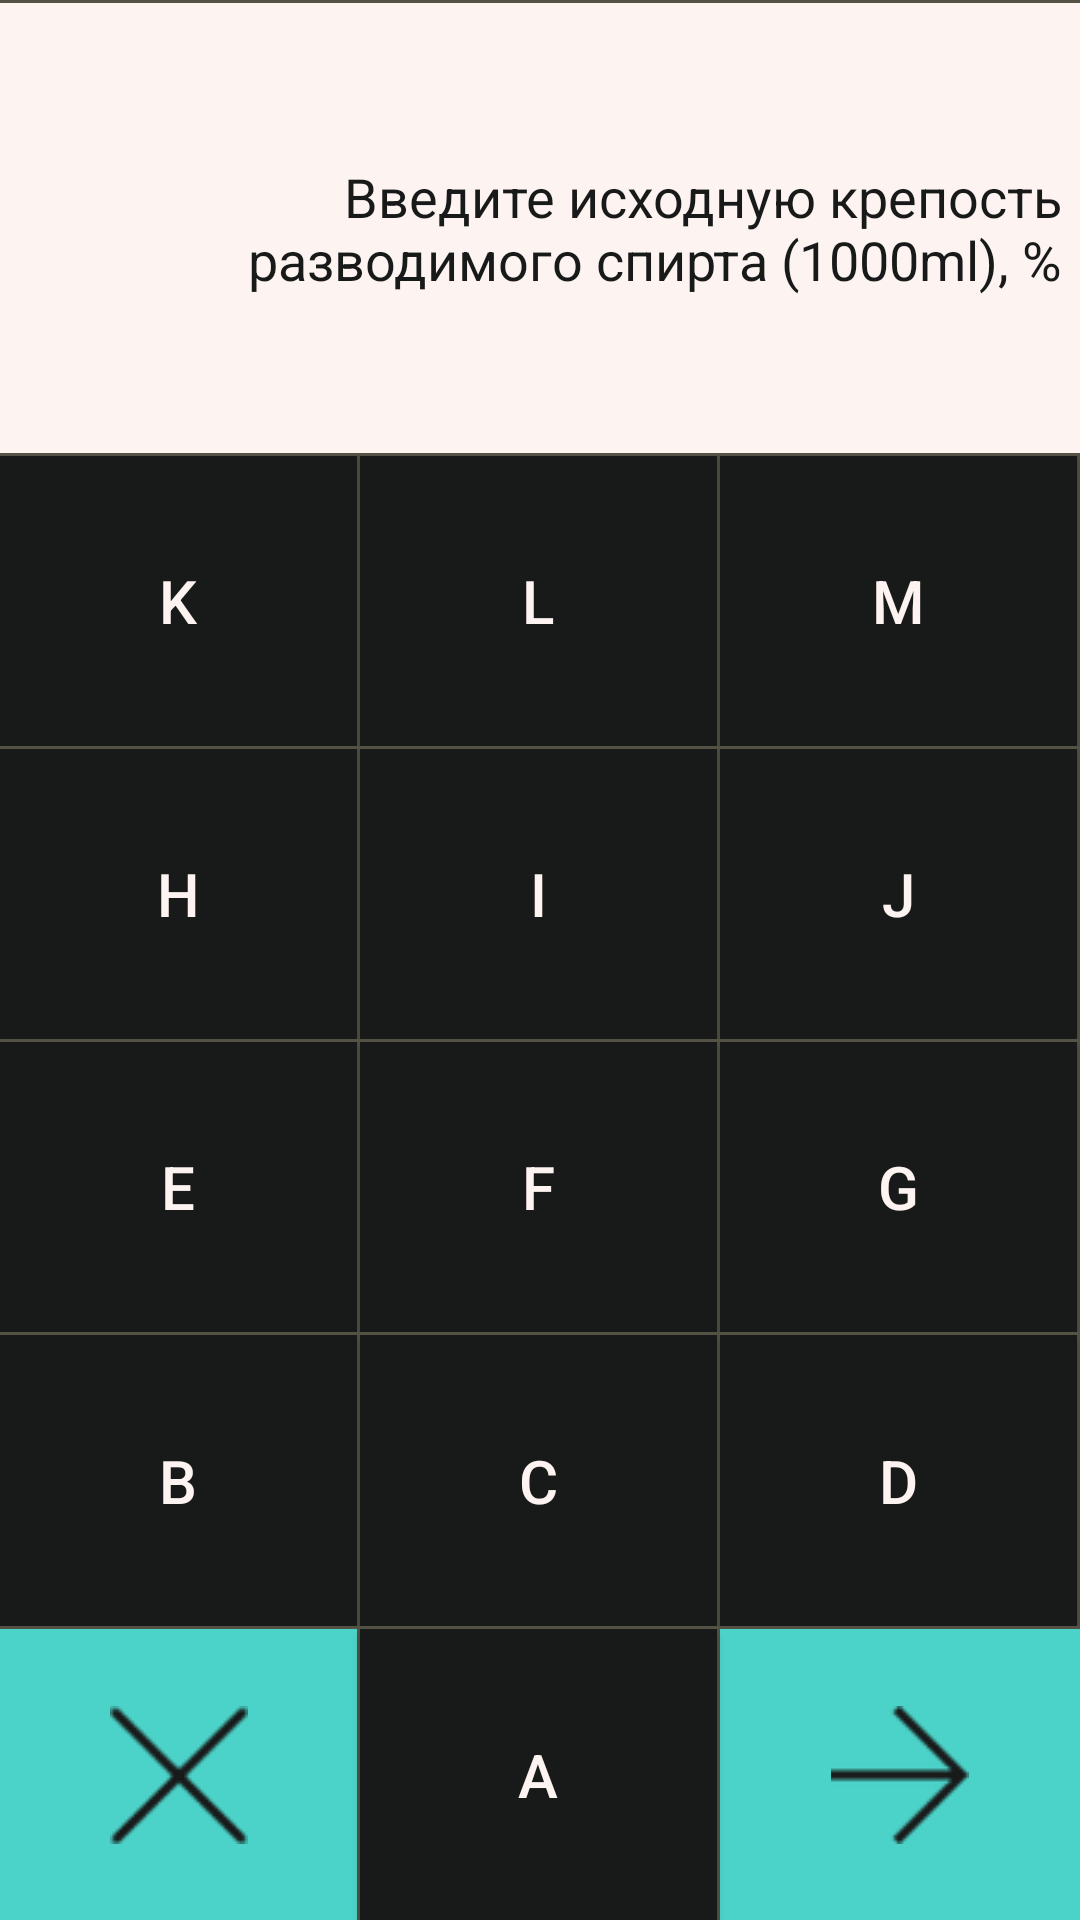

Named icons in this screenshot (1080px x 1920px) and their centers, (x=x, y=y):
delete: (x=178, y=1774)
forward: (x=900, y=1774)
